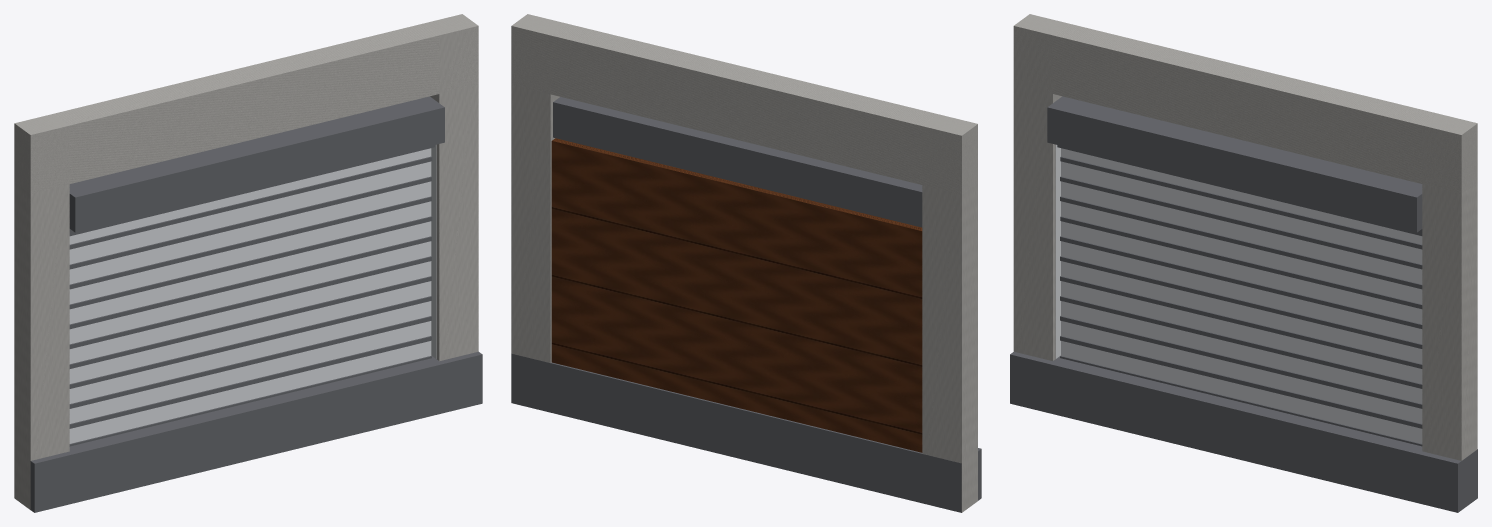
File: shopfront_shutter_bay.glb
3 views of the same model, side by side, from view 1: azimuth 30°, elevation 25°; view 2: azimuth 150°, elevation 25°; view 3: azimuth 330°, elevation 25° (orthographic).
Visible parts, largest first — view 1: shopfront-shutter-bay-concrete, shutter/steel, shopfront-shutter-bay-charcoal, shutter/charcoal, shopfront-shutter-bay-steel; view 2: shopfront-shutter-bay-darkwood, shopfront-shutter-bay-concrete, shopfront-shutter-bay-charcoal; view 3: shopfront-shutter-bay-concrete, shutter/steel, shopfront-shutter-bay-charcoal, shutter/charcoal, shopfront-shutter-bay-steel.
Boxes of the visible parts, x1,y1,x2,y2 form: shopfront-shutter-bay-concrete: (14,14,478,509); shutter/steel: (69,148,431,443); shopfront-shutter-bay-charcoal: (30,96,482,512); shutter/charcoal: (69,145,434,446); shopfront-shutter-bay-steel: (431,144,436,358); shopfront-shutter-bay-darkwood: (551,138,922,452); shopfront-shutter-bay-concrete: (511,14,977,512); shopfront-shutter-bay-charcoal: (511,97,981,512); shopfront-shutter-bay-concrete: (1013,14,1477,460); shutter/steel: (1061,148,1422,443); shopfront-shutter-bay-charcoal: (1010,96,1477,512); shutter/charcoal: (1057,145,1422,446); shopfront-shutter-bay-steel: (1055,144,1060,358).
Size of the model in its own units: 4 by 3.2 by 0.3359.
Materials: 4 (2 with a texture image).
